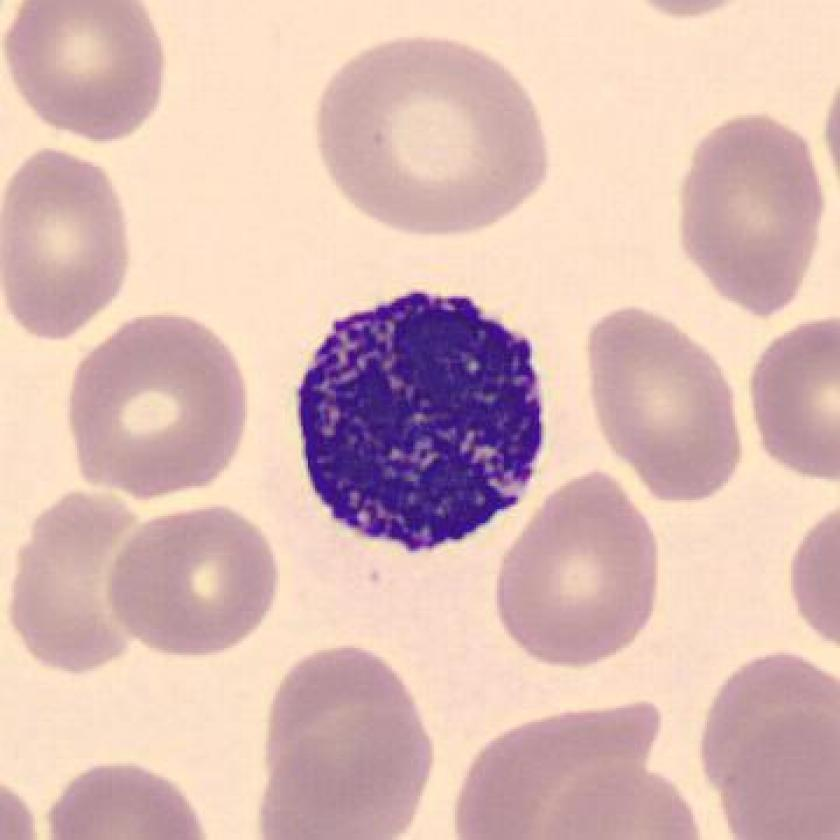basophil: (288, 270, 547, 564)
